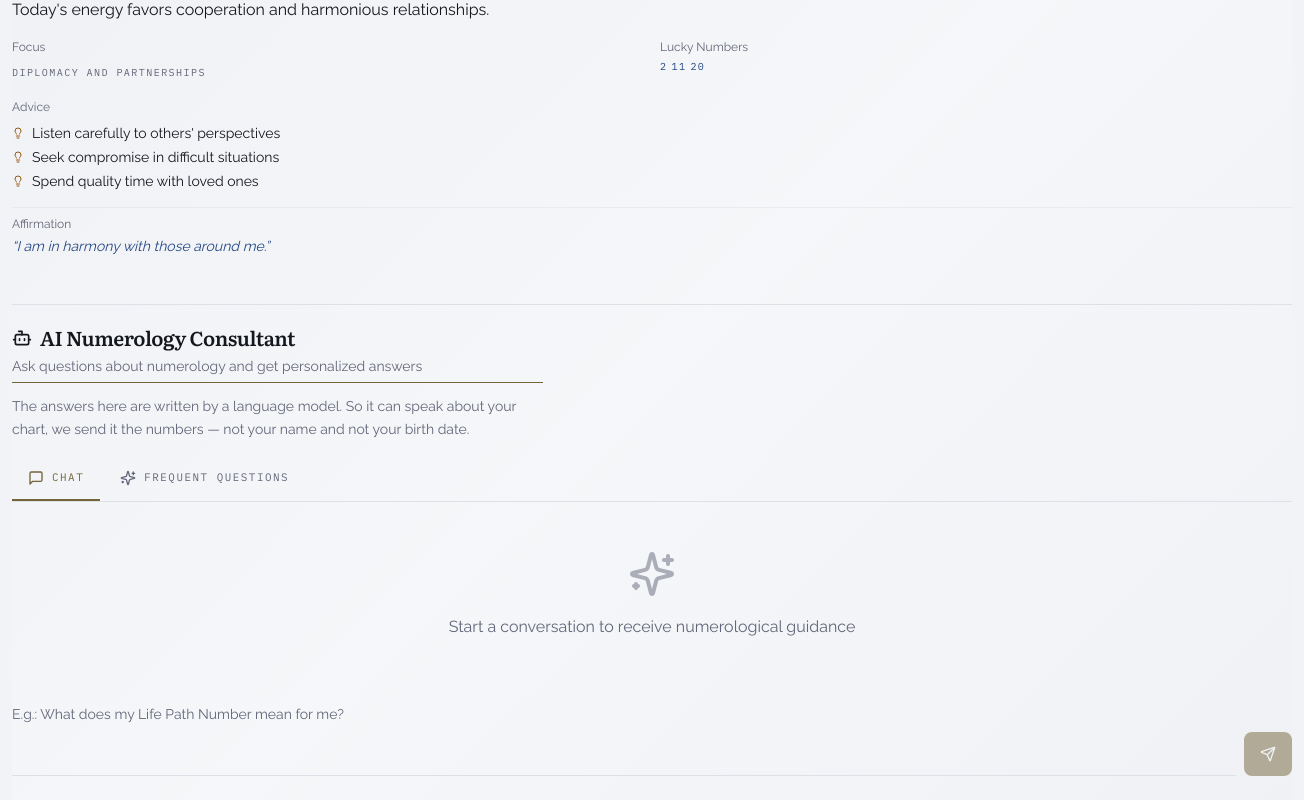
Test: when the server answers 429 › says too many questions, not the 503 or generic text
The width and height of the screenshot is (1304, 800).
(page scrolled)
Type "What does my chart say about this year?" into the text box with placeholder "E.g.: What does my Life Path Number mean for me?" at (624,736), box top-left (12, 696), bottom-right (1236, 776)
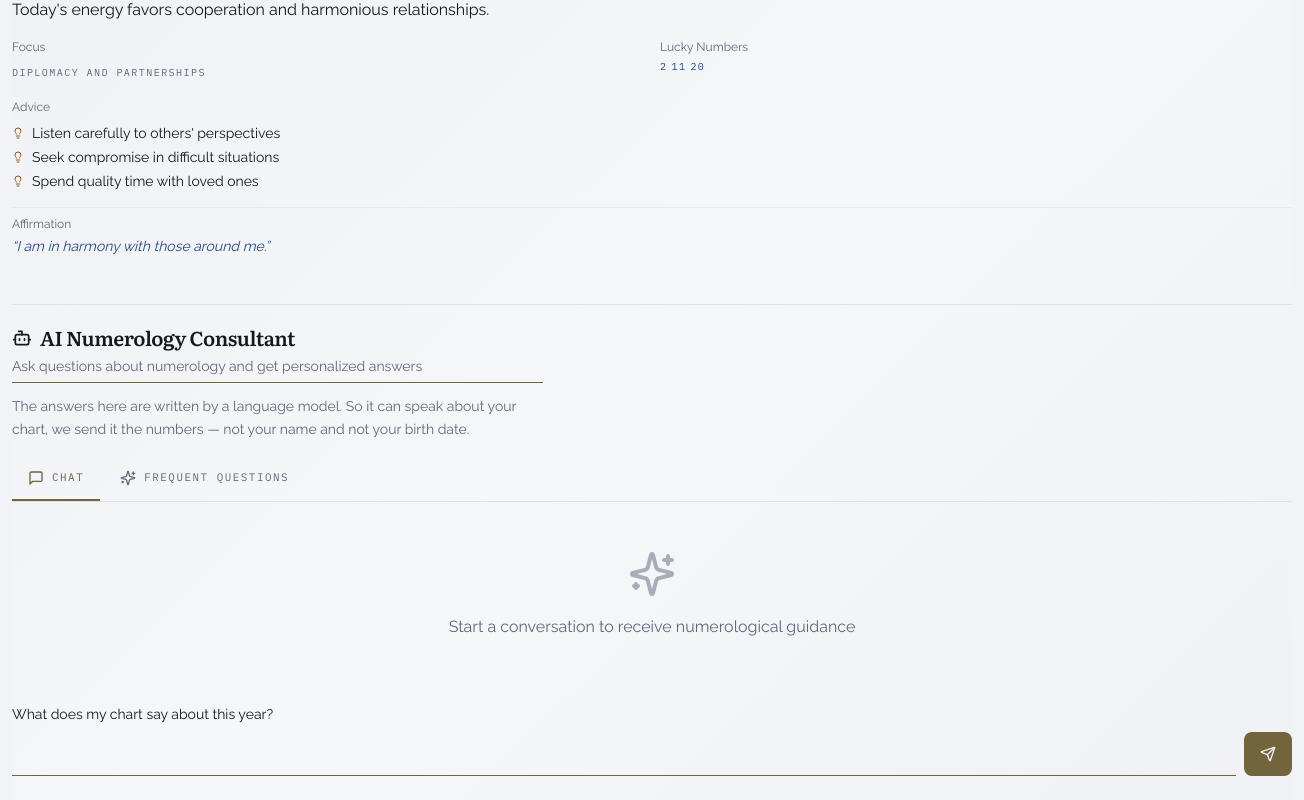
Press Enter
(page scrolled)
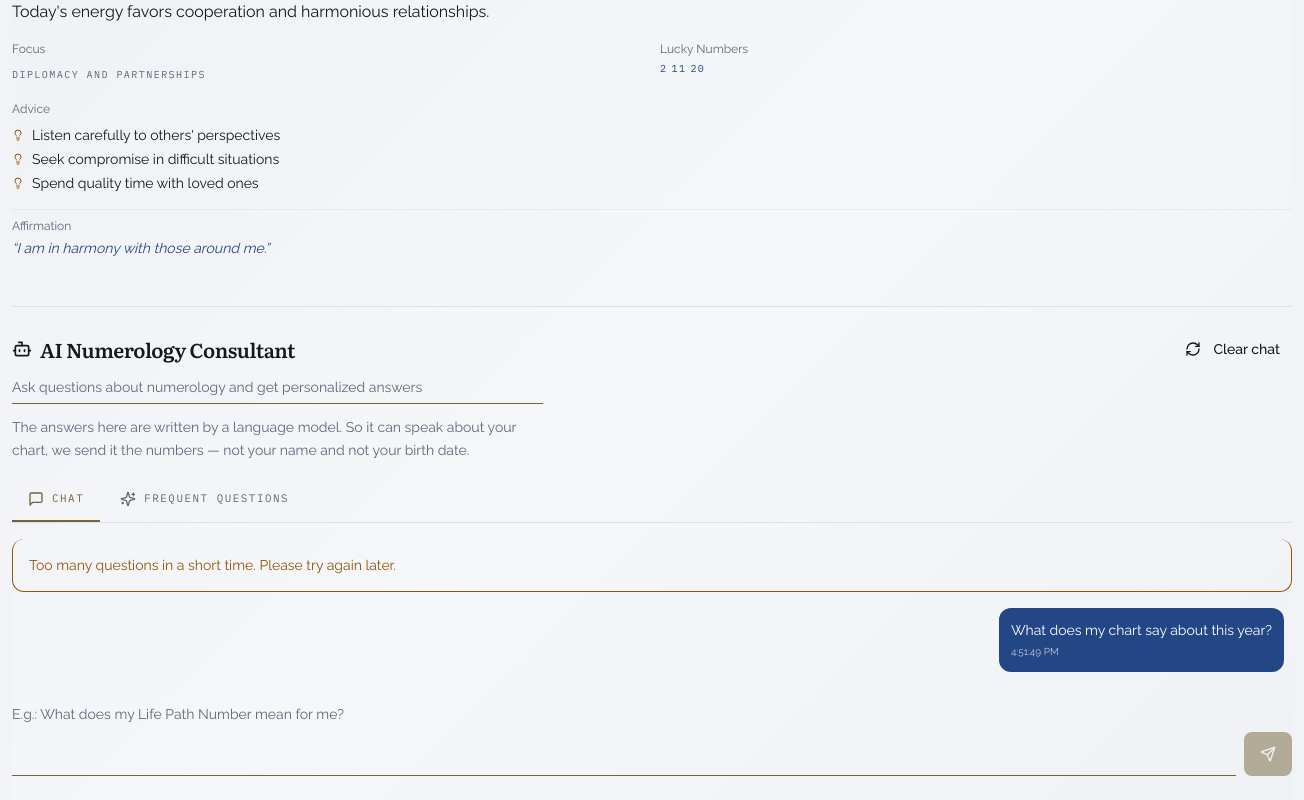
Expected: the text "Too many questions in a short time. Please try again later." is shown, top-left (12, 538), bottom-right (1292, 592)
